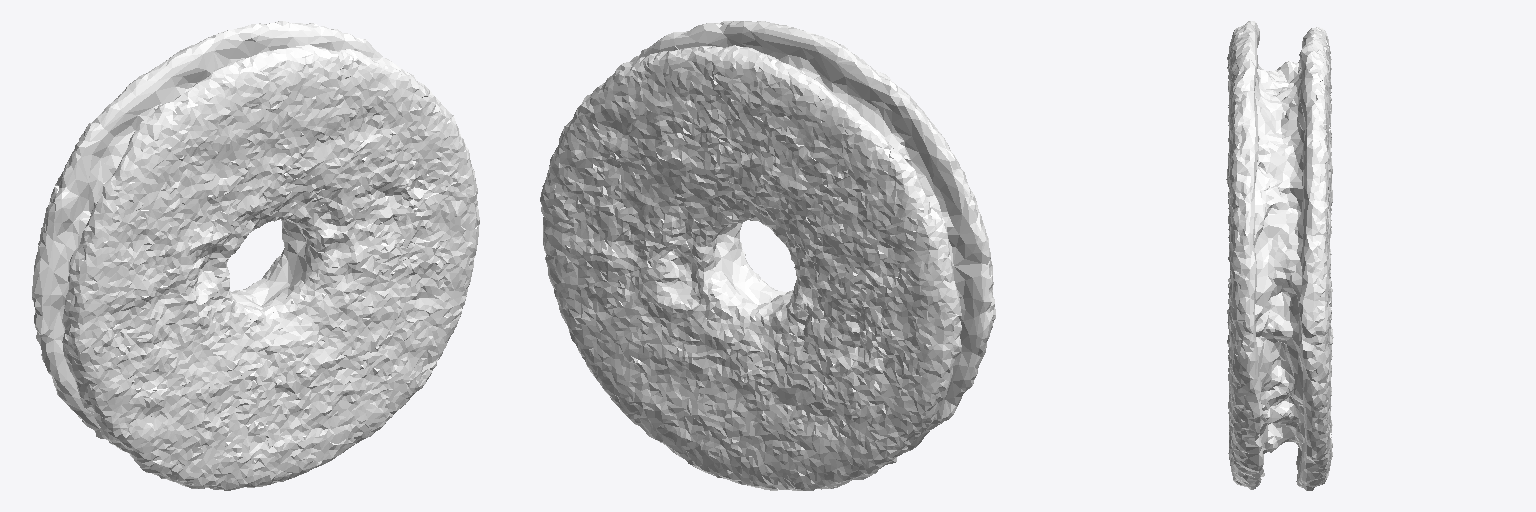
The robot description file, URDF, robot "atb2_round-pulley-small":
<?xml version="0.0" ?>
<robot name="atb2_round-pulley-small">
  <link name="baseLink">
    <contact>
      <friction_anchor/>
      <lateral_friction value="0.8"/>
      <spinning_friction value="0.001"/>
      <rolling_friction value="0.001"/>
      <contact_cfm value="0.0"/>
      <contact_erp value="0.2"/>
    </contact>
    <inertial>
       <origin rpy="0 0 0" xyz="0 0 0"/>
       <mass value="0.01"/>
       <inertia ixx="1e-3" ixy="0" ixz="0" iyy="1e-3" iyz="0" izz="1e-3"/>
    </inertial>
    <visual>
      <origin rpy="0 0 0" xyz="0 0 0"/>
      <geometry>
        <mesh filename="obj/fused_model.obj" scale="1 1 1"/>
      </geometry>
      <material name="white">
        <color rgba="1. 1. 1. 1."/>
      </material>
    </visual>
    <collision>
      <origin rpy="0 0 0" xyz="0 0 0"/>
      <geometry>
        <mesh filename="obj/fused_model.obj" scale="1 1 1"/>
      </geometry>
    </collision>
  </link>
</robot>

--- What the picture shows (computed from the rendered views, not written in the file) ---
The picture shows the robot from 3 angles, left to right: view 1: azimuth 30°, elevation 25°; view 2: azimuth 150°, elevation 25°; view 3: azimuth 270°, elevation 25°; orthographic projection.
Model atb2_round-pulley-small with 1 links and 0 joints (none), rooted at baseLink, posed all joints at 0.
Links seen in each view (by area): view 1: baseLink; view 2: baseLink; view 3: baseLink.
Link boxes in pixels (x1,y1,x2,y2): baseLink: [32, 21, 479, 490]; baseLink: [540, 21, 995, 490]; baseLink: [1226, 21, 1333, 490].
Bounding box of the posed robot: 0.0509 × 0.0116 × 0.0509 m (x, y, z).
Meshes: 1 distinct files referenced, 1 mesh visuals loaded (1 OBJ).
